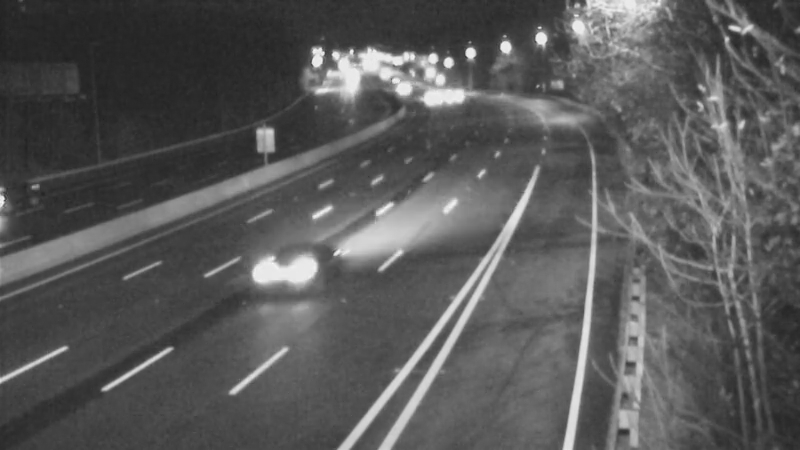vehicle: (241, 235, 321, 315), (1, 158, 68, 238), (367, 56, 417, 106), (423, 72, 473, 122), (378, 63, 428, 113), (404, 74, 454, 124)
